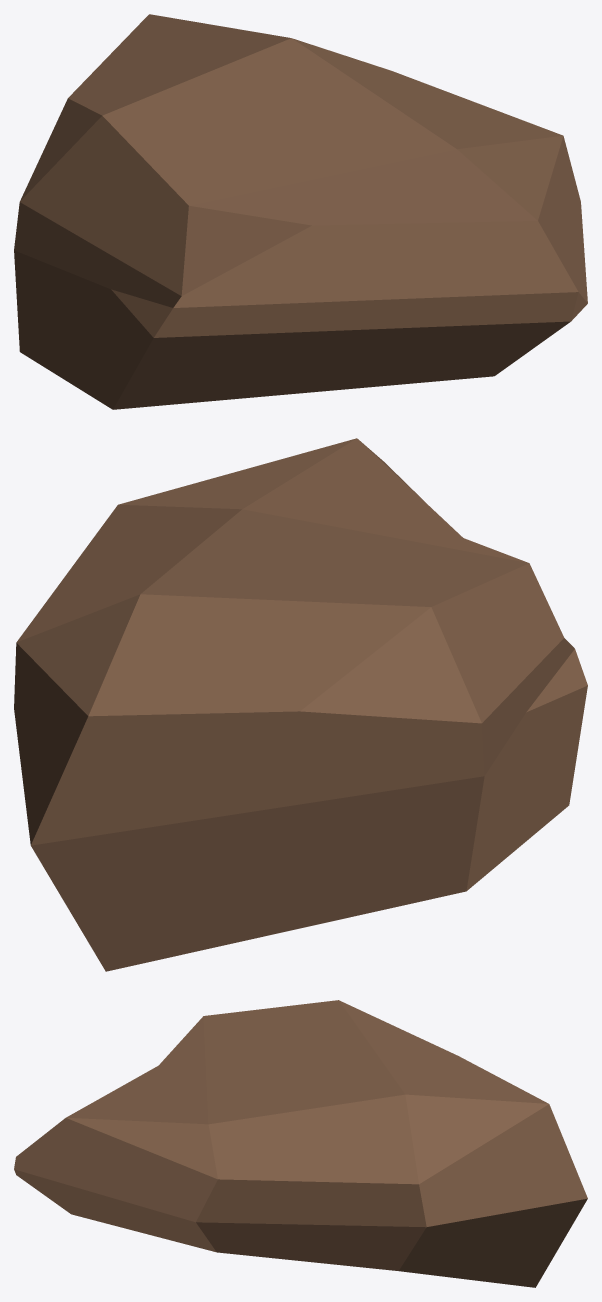
The model's file is Nugget2_Brown.fbx.
The picture shows the model from 3 angles, top to bottom: view 1: azimuth 30°, elevation 25°; view 2: azimuth 150°, elevation 25°; view 3: azimuth 270°, elevation 25°; orthographic projection. The views are drawn at different scales.
Visible parts, largest first — view 1: Nugget2_Brown; view 2: Nugget2_Brown; view 3: Nugget2_Brown.
Boxes of the visible parts, <box> form: Nugget2_Brown: <box>14,14,587,409</box>; Nugget2_Brown: <box>14,438,587,971</box>; Nugget2_Brown: <box>14,1000,587,1287</box>.
Size of the model in its own units: 25.59 by 16.01 by 37.51.
